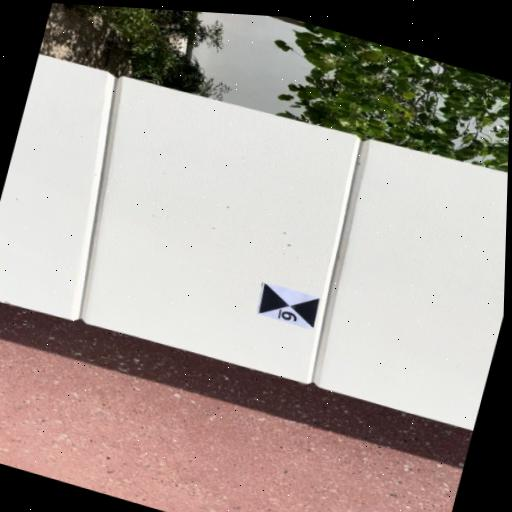target6: (257, 281, 318, 330)
